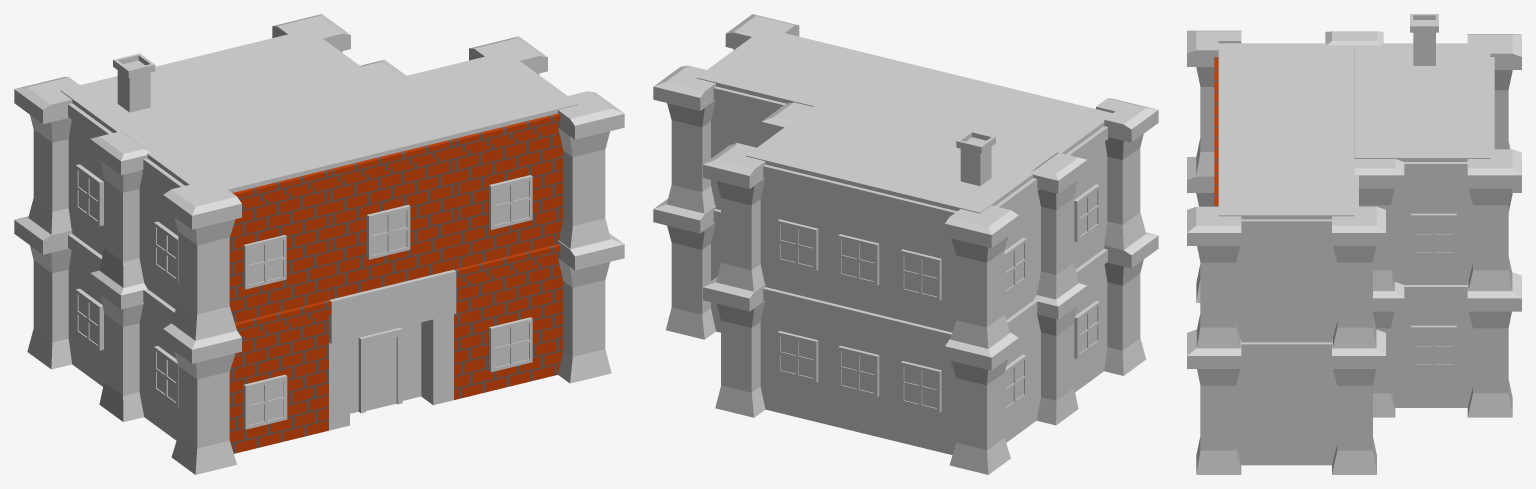
The model's file is Pillar_Building_001.FBX.
The picture shows the model from 3 angles, left to right: view 1: azimuth 30°, elevation 25°; view 2: azimuth 150°, elevation 25°; view 3: azimuth 270°, elevation 25°; orthographic projection. The views are drawn at different scales.
Visible parts, largest first — view 1: Box092, Box087, Box093, Box088, Box091, Box089, Plane014, Plane058, Plane017, Plane015, Plane012, Plane011 (+24 smaller); view 2: Box103, Box096, Box104, Box095, Plane015, Plane058, Plane014, Plane017, Plane022, Plane016, Plane021, Plane024 (+26 smaller); view 3: Box099, Box100, Plane058, Plane015, Plane014, Plane017, Box097, Box102, Plane016, Plane030, Plane028, Plane024 (+12 smaller).
Part boxes in pixels (x1,y1,x2,y2): Box092: (329,139,456,299); Box087: (329,269,456,430); Box093: (454,113,563,269); Box088: (454,244,563,399); Box091: (229,169,331,322); Box089: (229,300,331,453); Plane014: (257,82,453,169); Plane058: (382,51,578,138); Plane017: (137,112,328,192); Plane015: (185,29,381,112); Plane012: (163,184,241,340); Plane011: (163,323,241,474); Box103: (760,164,862,310); Box096: (760,287,862,433); Box104: (861,188,956,332); Box095: (861,311,956,454); Plane015: (746,106,930,188); Plane058: (696,28,880,106); Plane014: (814,56,997,134); Plane017: (931,85,1112,162); Plane022: (945,205,1018,348); Plane016: (863,135,1043,213); Plane021: (945,332,1018,474); Plane024: (703,143,765,291); Box099: (1236,342,1337,465); Box100: (1236,219,1337,342); Plane058: (1218,158,1354,219); Plane015: (1354,100,1490,161); Plane014: (1218,100,1354,157); Plane017: (1218,43,1354,100); Box097: (1391,285,1472,407); Box102: (1391,162,1472,284); Plane016: (1354,43,1490,100); Plane030: (1187,206,1241,348); Plane028: (1332,206,1385,348); Plane024: (1467,149,1521,290).
Bounding box in the file's own units: 1040 × 710 × 740.
